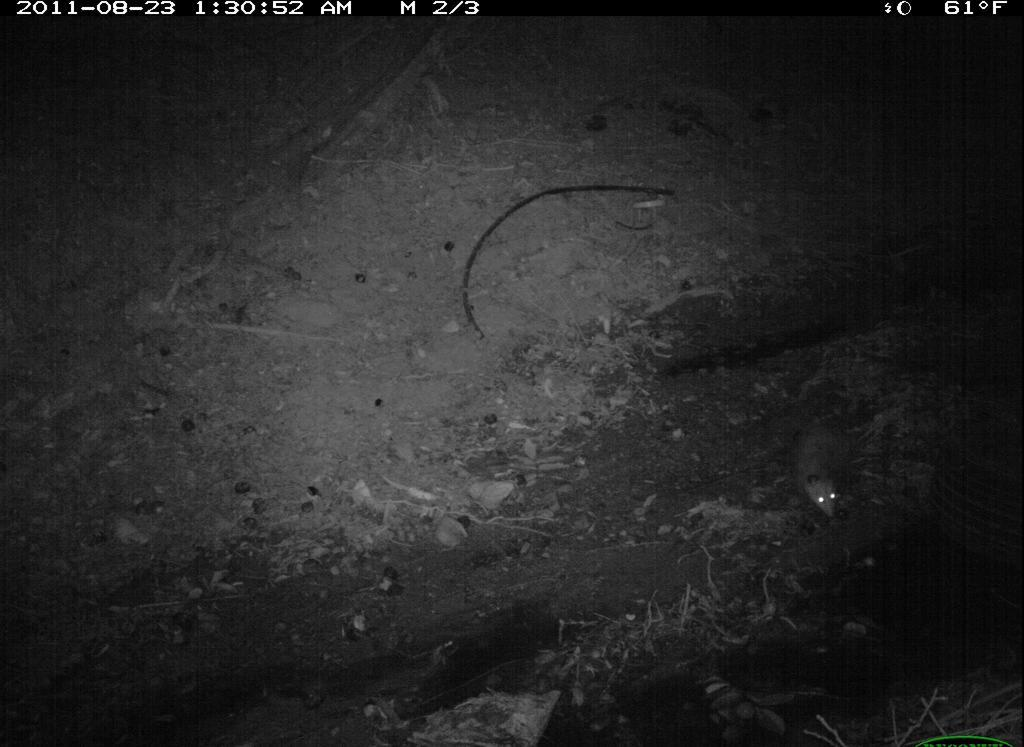opossum: (774, 385, 863, 552)
